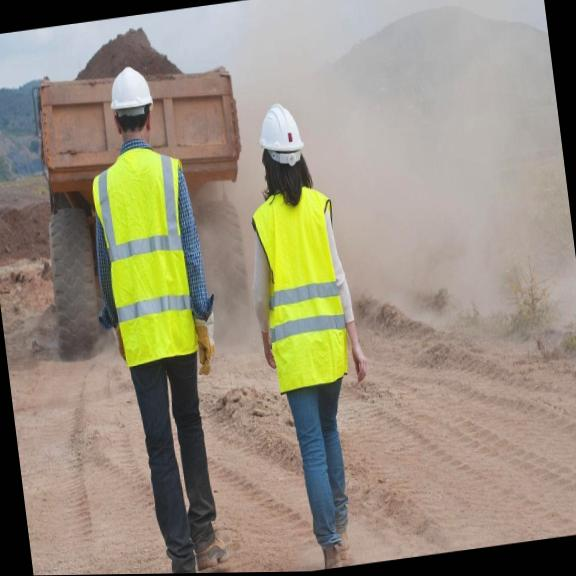safety_vest: (86, 138, 208, 373), (244, 174, 356, 398)
